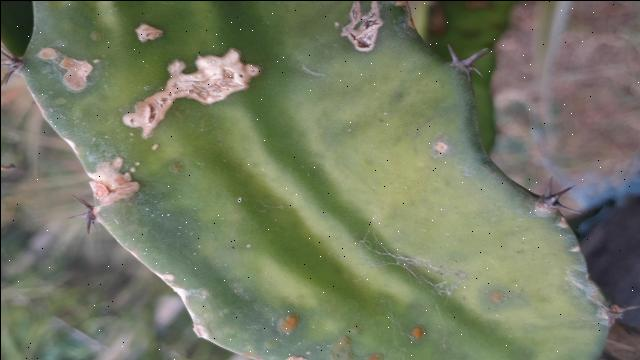stemcanker: (396, 315, 439, 348), (271, 306, 311, 338), (484, 282, 510, 308), (164, 155, 190, 180), (430, 137, 453, 159)
